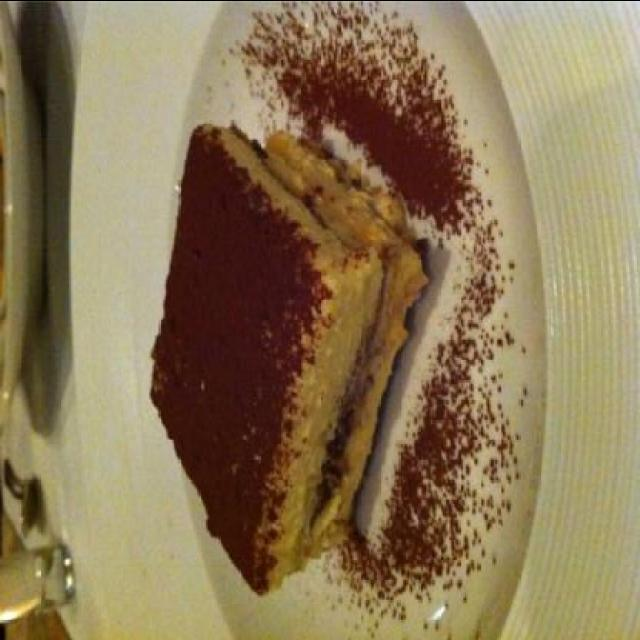Tiramisu: (116, 126, 416, 602)
